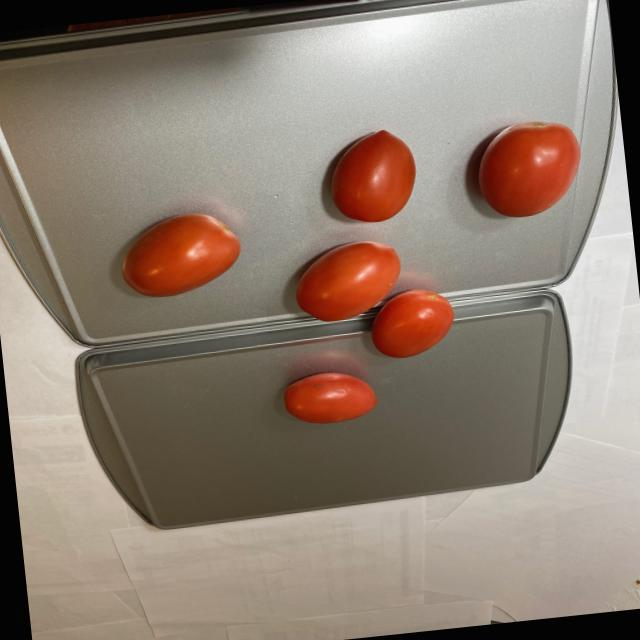tomato: (248, 120, 468, 430), (108, 203, 246, 304), (470, 110, 590, 224)
